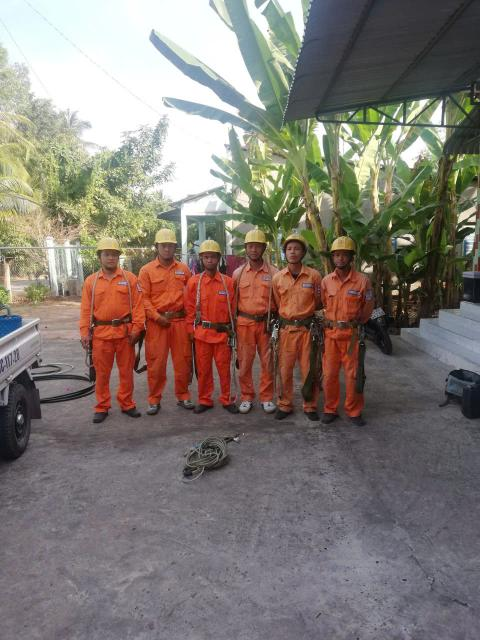harness: (193, 317, 232, 340), (316, 313, 362, 332), (91, 313, 137, 331), (265, 313, 319, 328), (157, 307, 199, 325), (234, 306, 274, 323)
helmet: (278, 221, 314, 255), (194, 234, 226, 261), (148, 228, 186, 250), (322, 235, 357, 258), (96, 234, 127, 256), (238, 224, 266, 247)
shoes: (82, 403, 111, 427), (145, 397, 167, 419), (273, 398, 295, 418), (191, 396, 214, 415), (121, 400, 145, 417), (317, 407, 341, 424), (176, 392, 195, 413), (304, 406, 325, 425), (347, 410, 366, 430), (219, 400, 241, 417), (260, 401, 278, 417), (239, 397, 255, 414)
